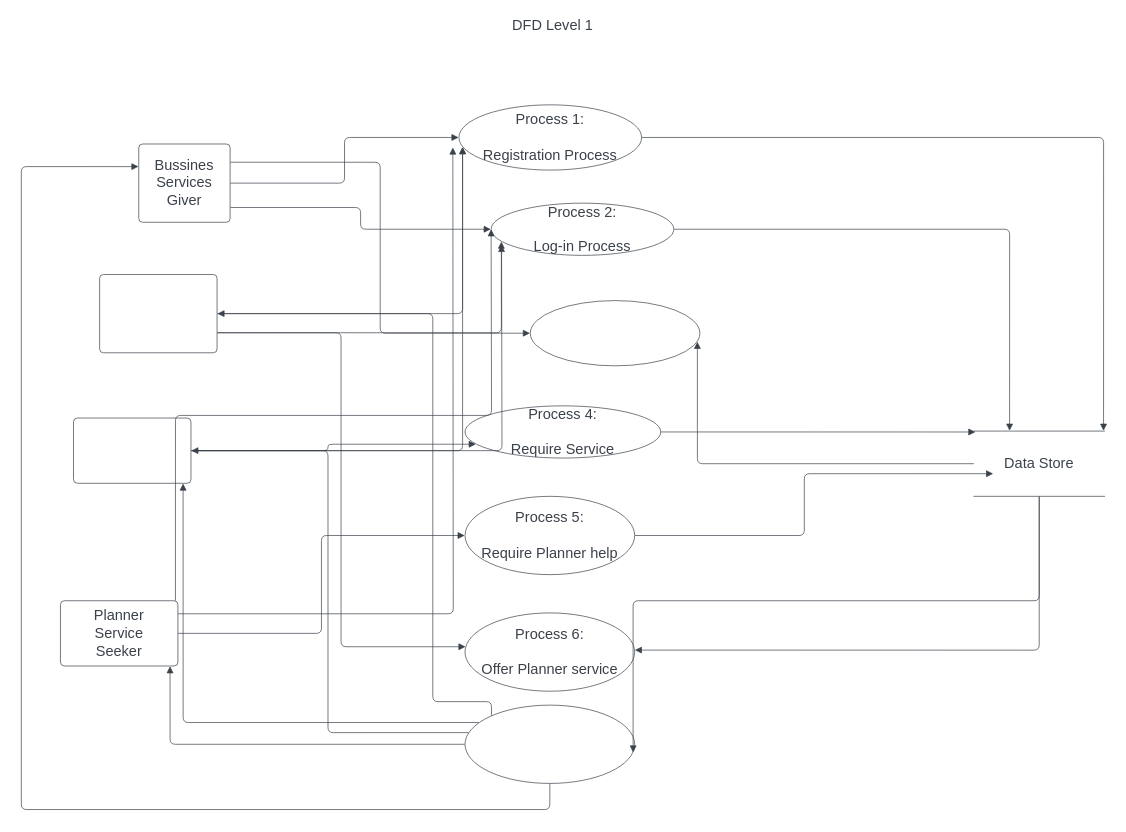
Some shapes in this 1126 by 832 pixel diagram are drawn without their labels. Each missing label, with the centre of its shape:
Business Service Seeker: pixel 132 450
Planner Service Giver: pixel 158 313
Process 3: Offer Service: pixel 614 333
Process 7: Get Notification: pixel 549 743
